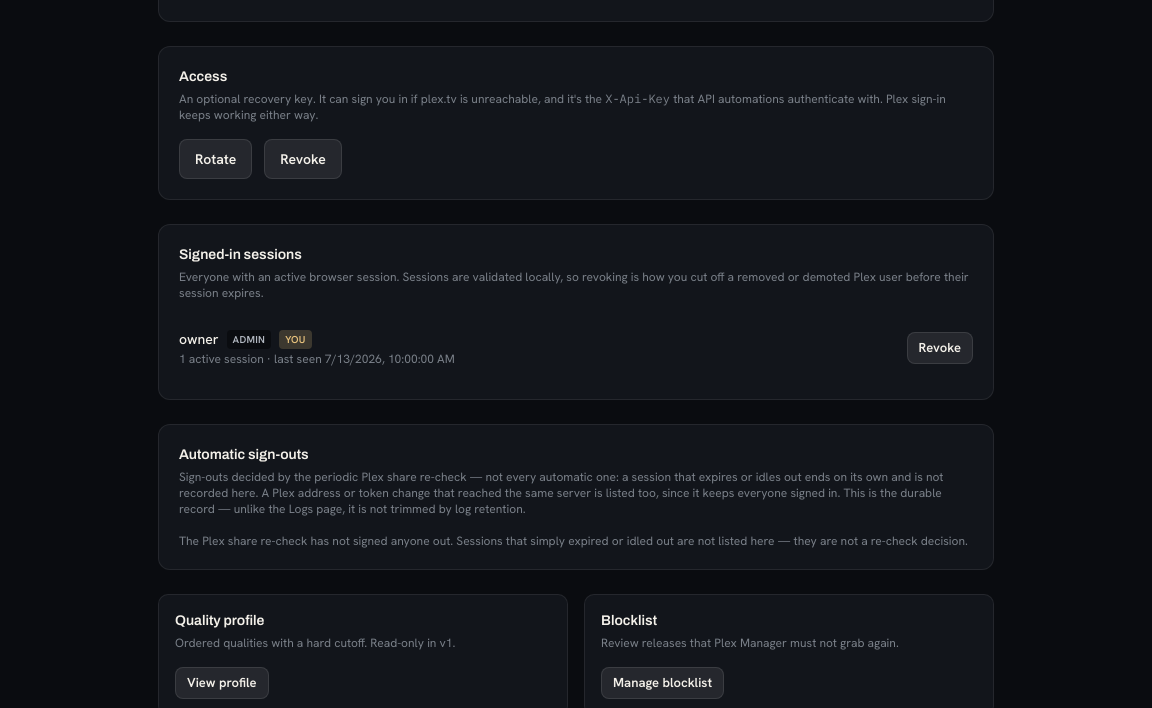
Test case: Settings — Signed-in sessions (issue #56) › warns that revoking your own account signs you out
The image size is (1152, 708).
(page scrolled)
Click the button "Revoke" in the row of "owner". click: (940, 348)
box: [907,332,973,364]
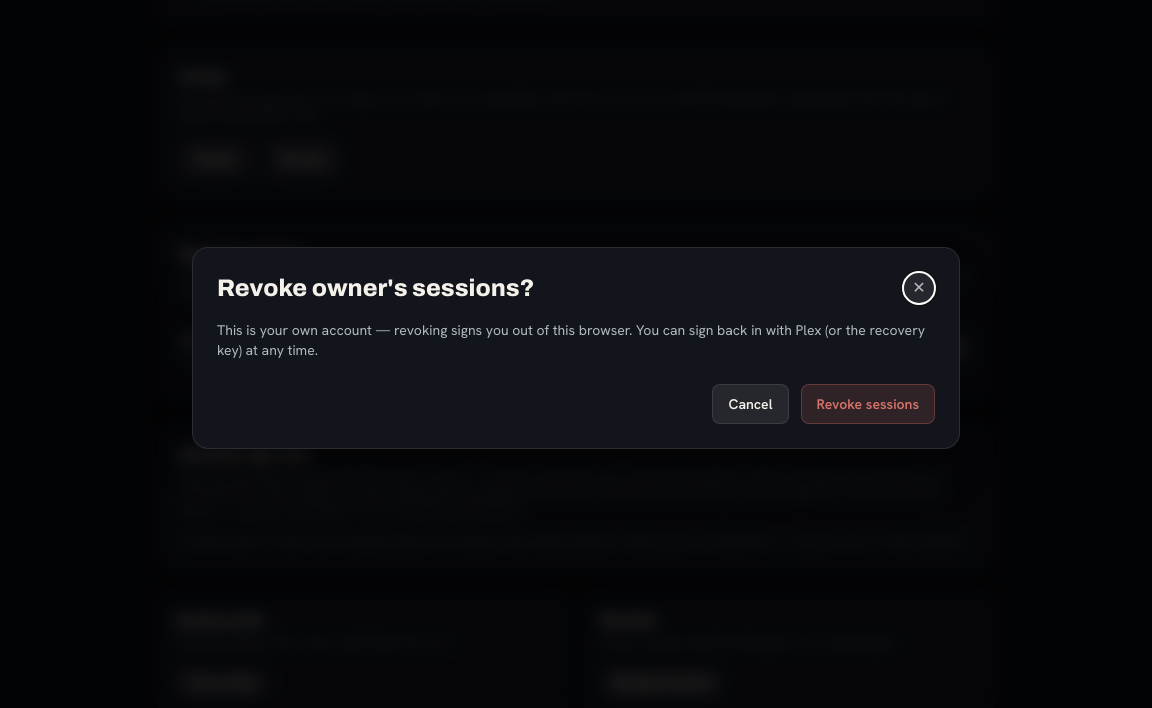
Expected: the text "signs you out of this browser" is shown, [217,321,925,359]
